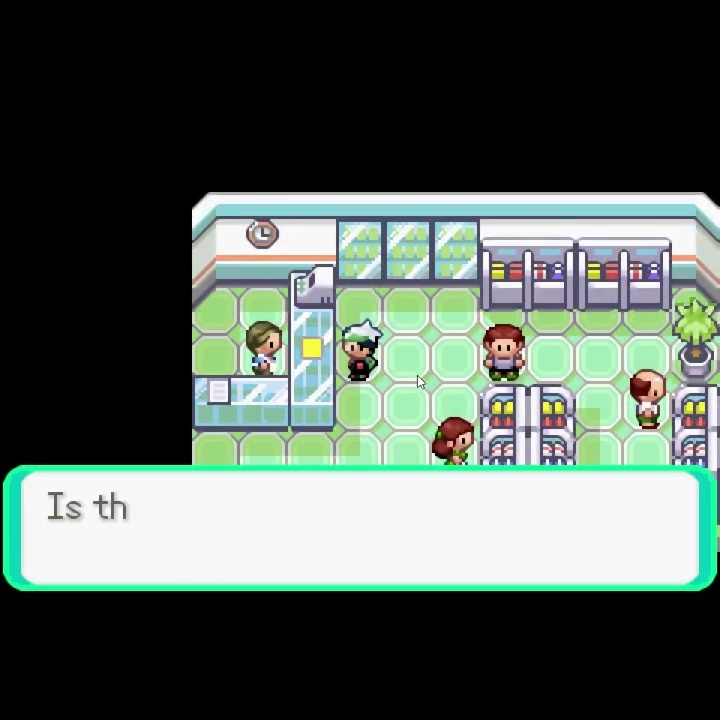npc: (338, 316, 385, 385), (479, 320, 528, 384), (626, 366, 668, 434), (242, 318, 286, 376), (428, 413, 476, 465)
